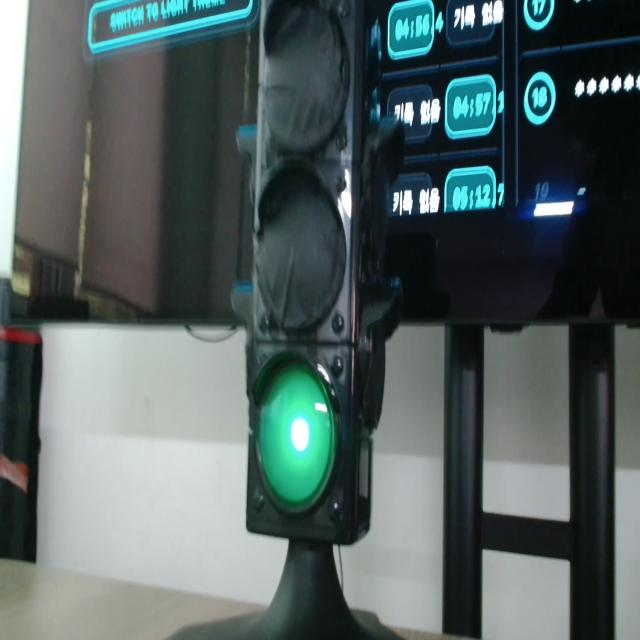green_light: (259, 363, 336, 508)
